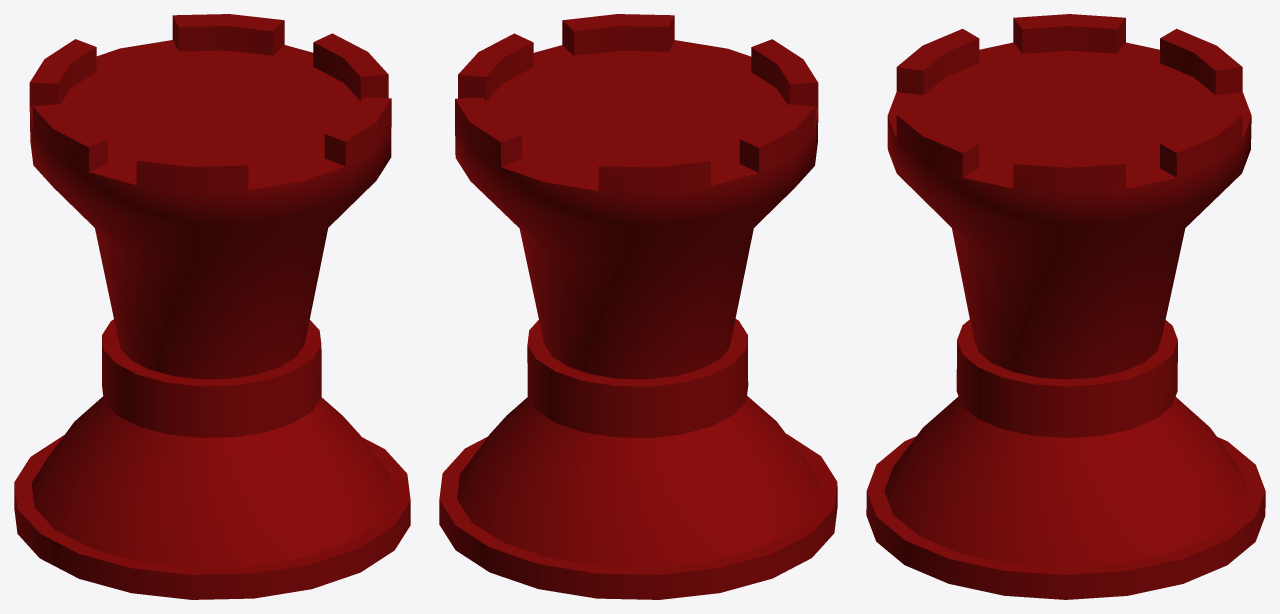
Rendered from KR_Model_GuardTower_v05_Vang.fbx.
3 views of the same model, side by side, from view 1: azimuth 30°, elevation 25°; view 2: azimuth 150°, elevation 25°; view 3: azimuth 270°, elevation 25° (orthographic).
Parts seen in each view (by area): view 1: pCylinder8; view 2: pCylinder8; view 3: pCylinder8.
Part boxes in pixels (x1,y1,x2,y2): pCylinder8: (14, 14, 410, 599); pCylinder8: (439, 14, 837, 599); pCylinder8: (866, 14, 1265, 599).
Size of the model in its own units: 3.97 by 4.67 by 3.97.
